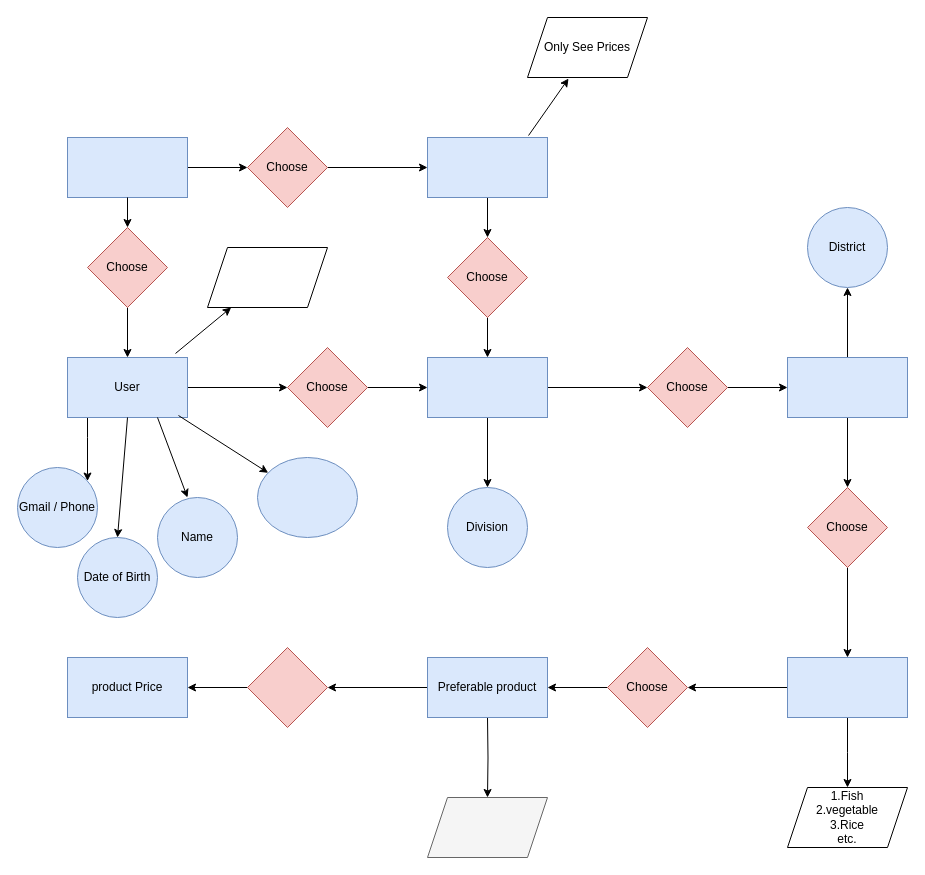
This 925x875 diagram has some shape labels left out. Each missing label, with the centre of its shape:
Area: the point at 487,387
beef, ilsha,: the point at 487,827
Customer: the point at 127,167
Guest: the point at 487,167
Nid Number: the point at 307,497
Product Type: the point at 847,687
See: the point at 287,687
see prices and Objection: the point at 267,277
sub Area: the point at 847,387
